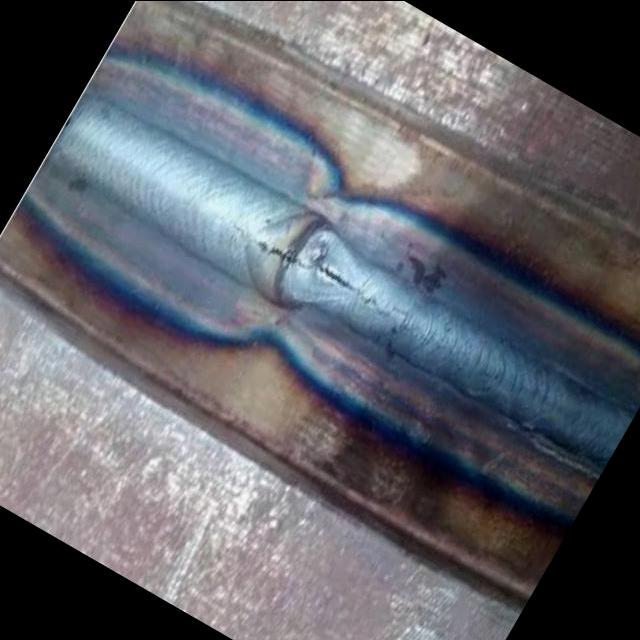defect: (249, 233, 412, 329)
